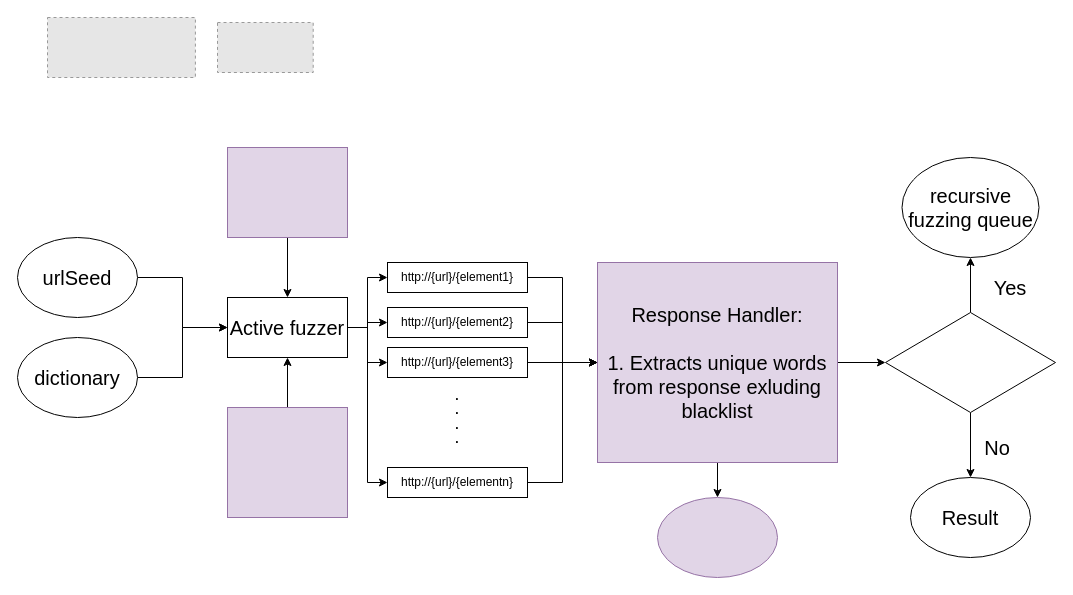
Image size: 1073x595. Some labels were removed from this diagram. Grey dashed boxes stand in for pictures. Each missing label, with the box of its shape:
Boring Response Learner: (226, 146, 348, 238)
IF sub-directort detected: (884, 312, 1056, 412)
unqiue words blacklist learner: (226, 406, 348, 518)
unqiue-words.txt: (656, 496, 778, 578)
